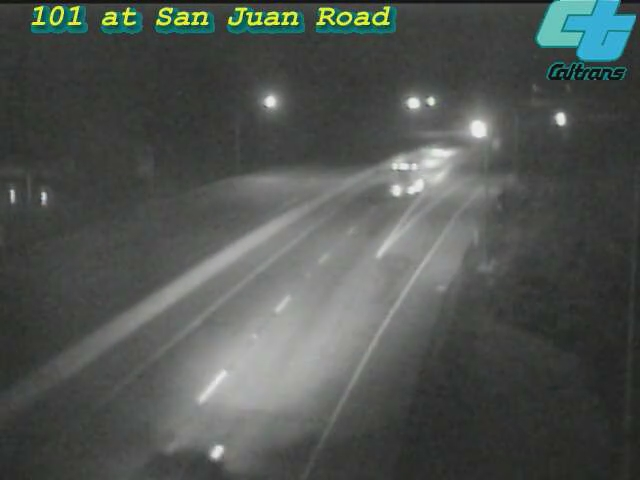vehicle: (126, 416, 236, 480), (365, 142, 445, 222), (451, 103, 501, 153), (536, 93, 586, 143), (420, 125, 470, 175), (399, 132, 449, 182)
